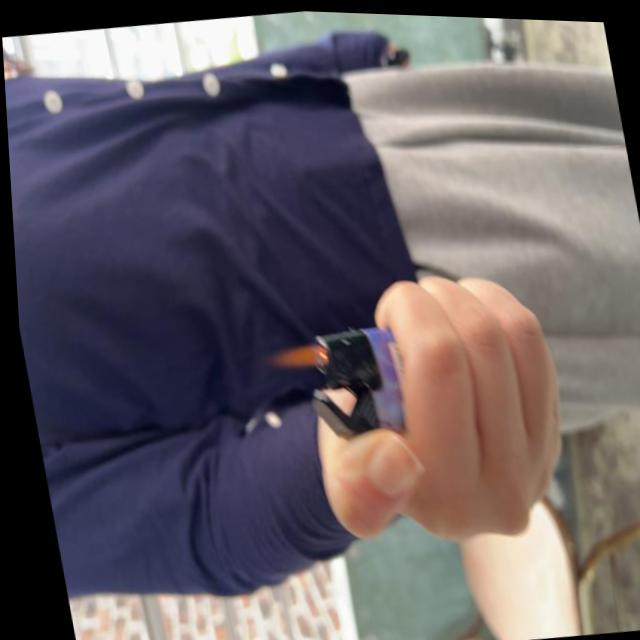Fire: (261, 336, 326, 374)
